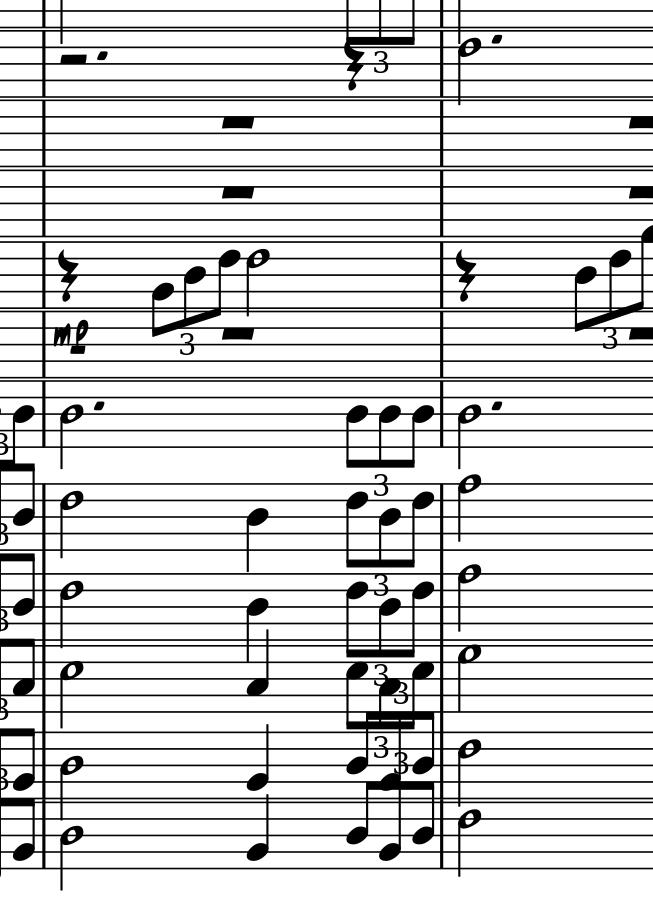2_4: (457, 379, 486, 470), (57, 377, 85, 468)
2_6: (57, 569, 87, 646), (455, 730, 481, 807), (59, 482, 84, 562), (455, 800, 480, 880)
2_7: (456, 643, 481, 716)
2_8: (457, 473, 485, 550), (457, 564, 482, 634)
3: (598, 327, 620, 352), (371, 573, 391, 598), (373, 472, 389, 500)
Rests1: (216, 178, 260, 200), (217, 325, 264, 345), (215, 111, 259, 132)
Rests2: (60, 50, 93, 70)
Rests4: (340, 41, 367, 94), (53, 246, 77, 305), (454, 246, 477, 303)
Single_barline: (38, 381, 49, 444)
mp: (50, 319, 95, 355)
